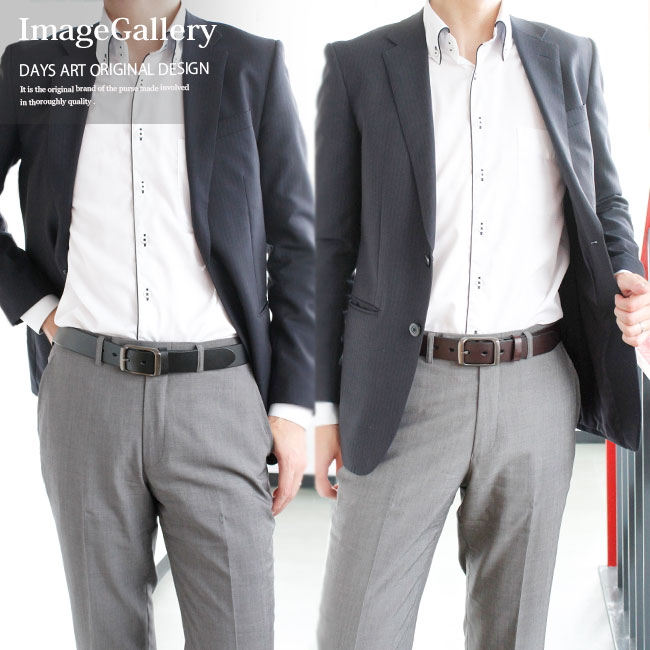F_M_suit jacket: (313, 19, 640, 446), (1, 26, 311, 406)
F_belt: (57, 315, 259, 381), (409, 311, 566, 366)
F_dress pants: (314, 329, 592, 649), (31, 338, 286, 650)
